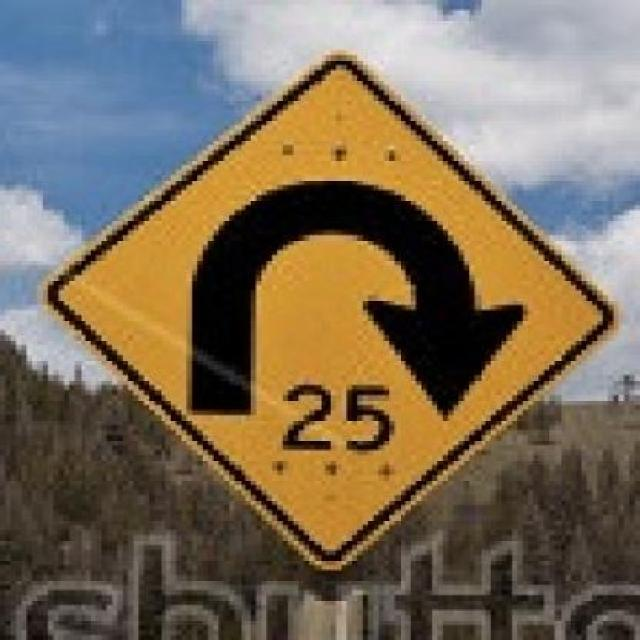u turn: (45, 50, 617, 559)
